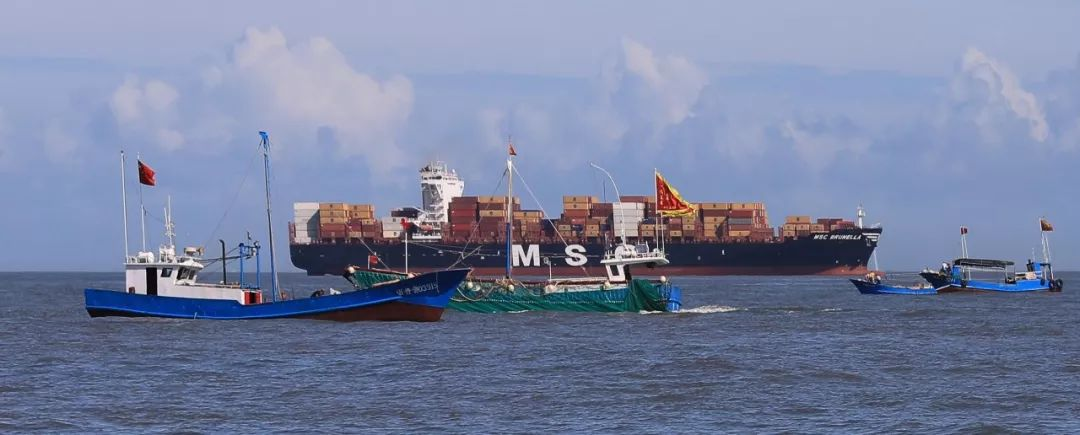Cargoship: (263, 134, 885, 282)
otherboat: (77, 159, 471, 328), (334, 233, 681, 318), (931, 237, 1059, 292), (839, 255, 979, 305)
